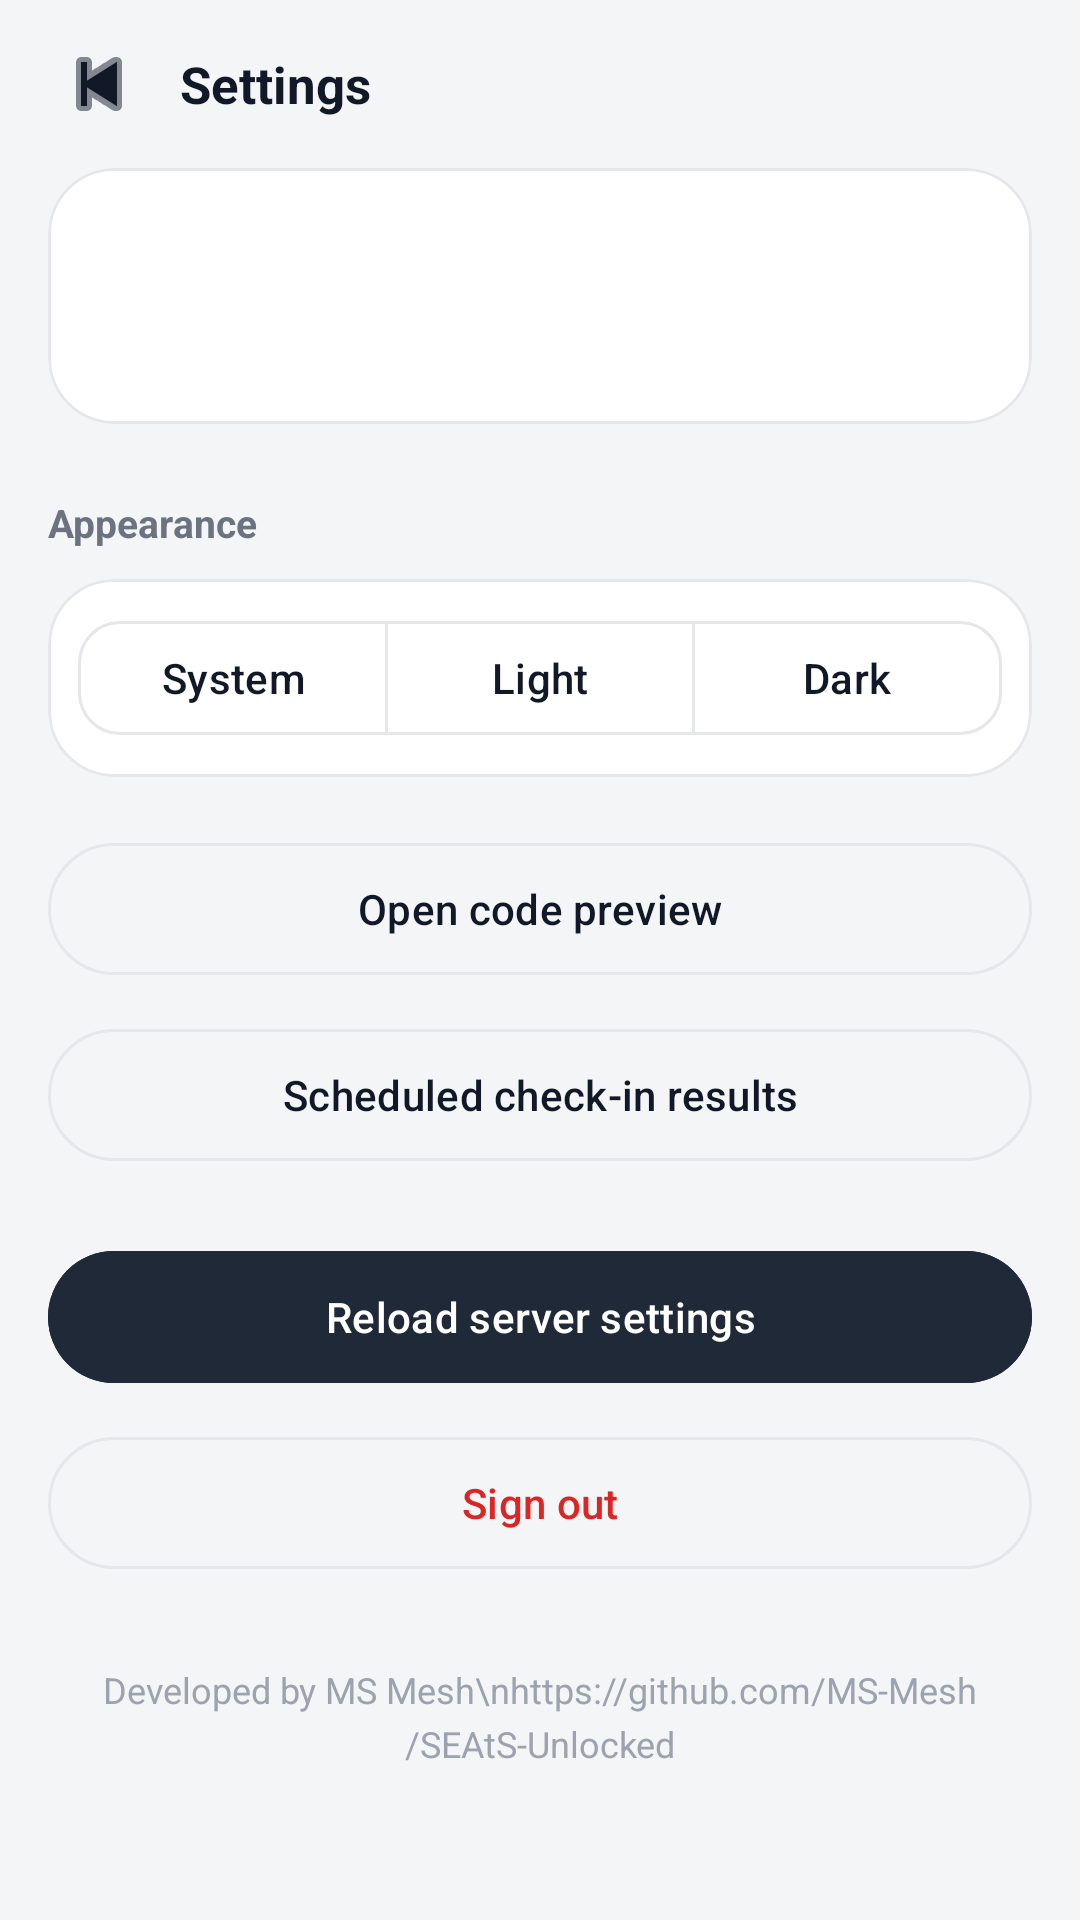

Named icons in this screenshot (1080 × 1920) and their bounding boxes, [left=x1, top=y1, right=x2, bottom=y2]:
Back: [left=76, top=57, right=122, bottom=111]
